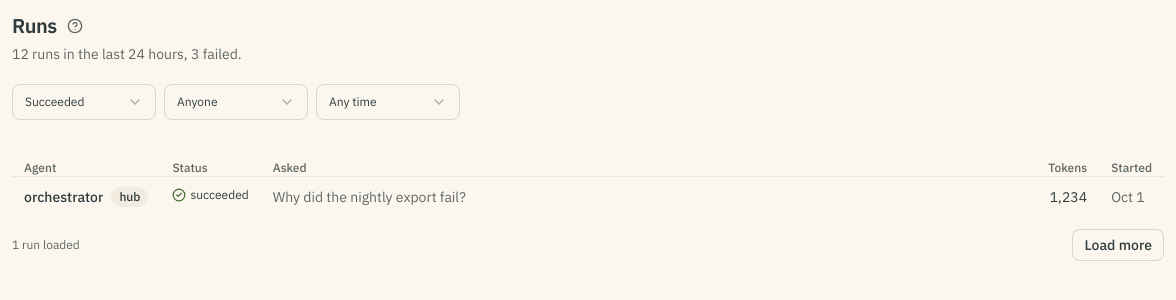
Test case: narrowing the runs › loads older runs with the cursor, under the same filters
Expected: the link "orchestrator" is shown, [24, 186, 103, 206]
Click the button "Load more": (1118, 244) [1072, 228, 1164, 260]
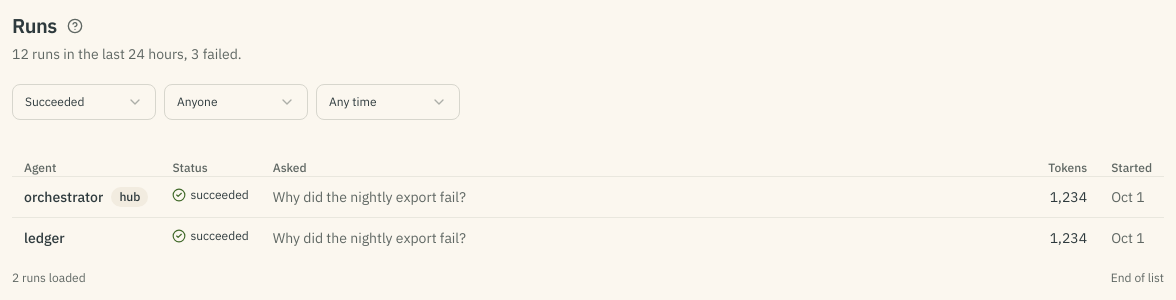
Result: the link "ledger" is shown at [24, 228, 65, 248]
